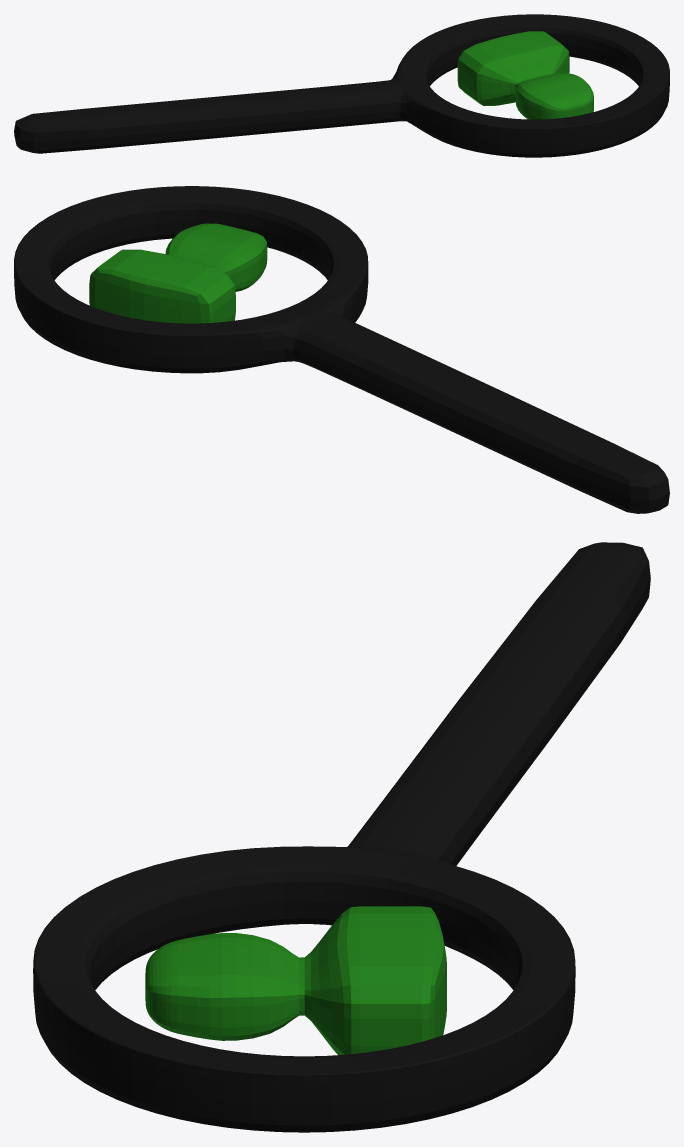
File: insankaynaklar 1.fbx
3 renders of one model, top to bottom at view 1: azimuth 30°, elevation 25°; view 2: azimuth 150°, elevation 25°; view 3: azimuth 270°, elevation 25°, orthographic. The views are drawn at different scales.
Parts seen in each view (by area): view 1: Circle.007; view 2: Circle.007; view 3: Circle.007.
Part boxes in pixels (x1=…): Circle.007: x1=14, y1=14, x2=669, y2=157; Circle.007: x1=14, y1=186, x2=669, y2=513; Circle.007: x1=33, y1=542, x2=650, y2=1132.
Bounding box in the file's own units: 76.35 × 6.2 × 36.58.
